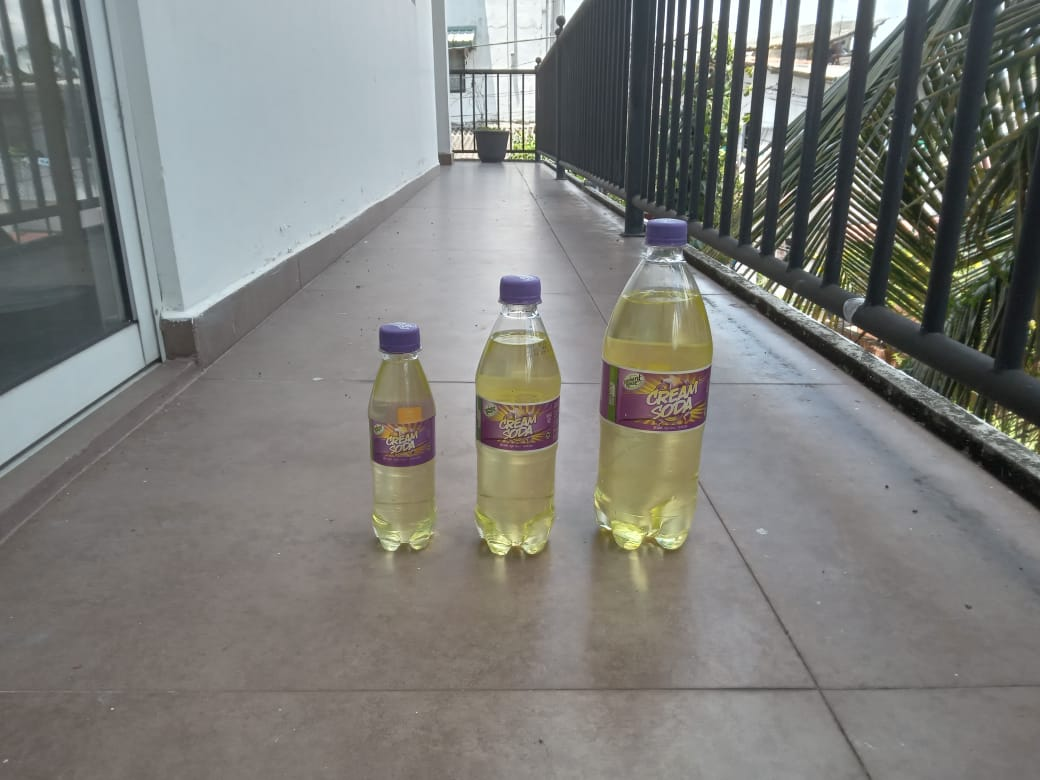M: (595, 217, 712, 561)
S: (470, 272, 563, 559)
Xs: (365, 324, 438, 556)
